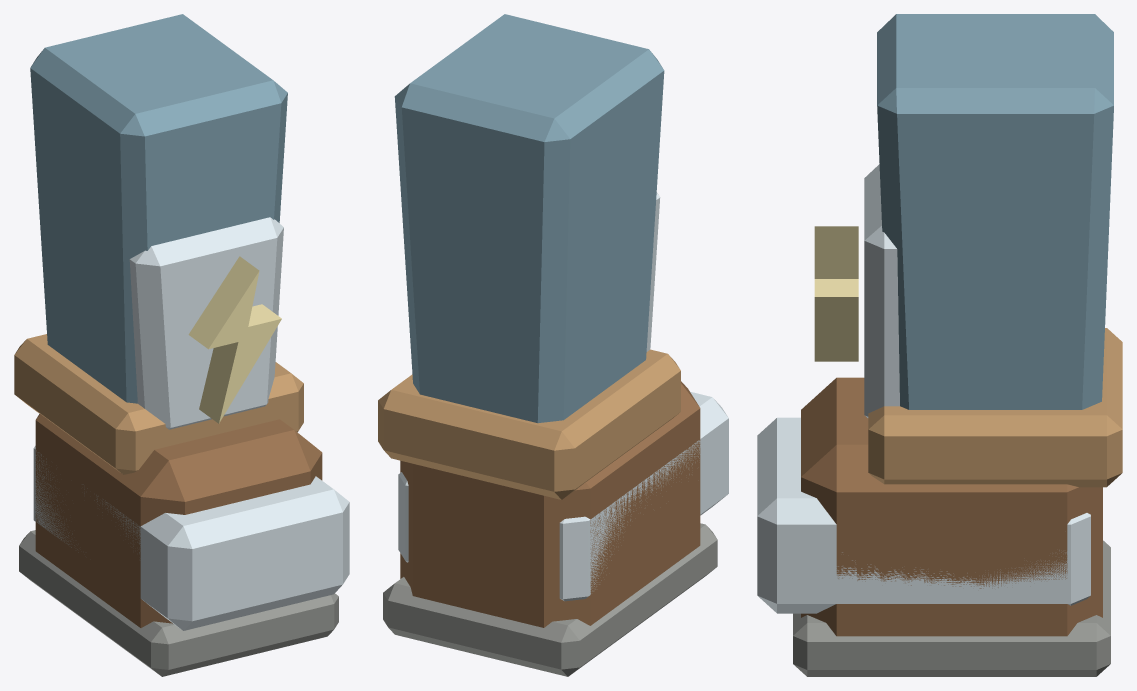
Rendered from Storm_Archer_LeftLeg.fbx.
3 renders of one model, left to right at view 1: azimuth 30°, elevation 25°; view 2: azimuth 150°, elevation 25°; view 3: azimuth 270°, elevation 25°, orthographic. The views are drawn at different scales.
Parts seen in each view (by area): view 1: Storm_Archer_LeftLeg; view 2: Storm_Archer_LeftLeg; view 3: Storm_Archer_LeftLeg.
Boxes of the visible parts, x1,y1,x2,y2 form: Storm_Archer_LeftLeg: (14,14,349,676); Storm_Archer_LeftLeg: (378,14,728,676); Storm_Archer_LeftLeg: (757,14,1122,676).
Bounding box in the file's own units: 30 × 80.75 × 46.
